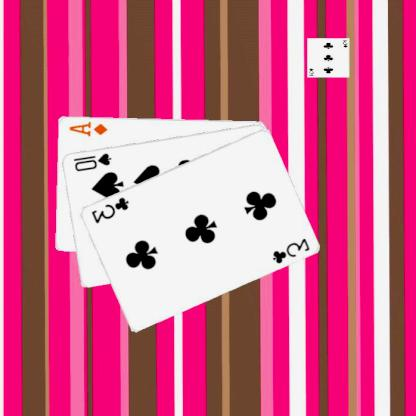10S: (72, 150, 115, 172)
3C: (90, 194, 132, 225), (271, 236, 313, 266)
AD: (68, 119, 110, 137)
